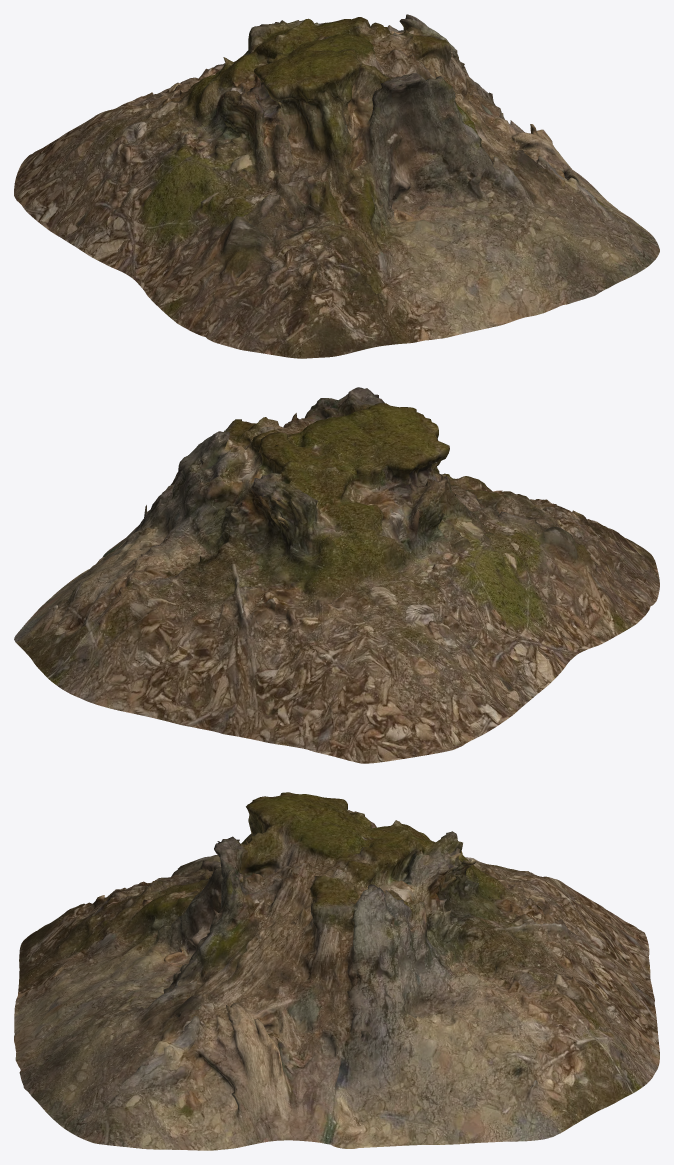
Rendered from tree_stump_01.glb.
3 views of the same model, one above another, from view 1: azimuth 30°, elevation 25°; view 2: azimuth 150°, elevation 25°; view 3: azimuth 270°, elevation 25° (orthographic). The views are drawn at different scales.
Parts seen in each view (by area): view 1: tree_stump_01; view 2: tree_stump_01; view 3: tree_stump_01.
Part boxes in pixels (<box>): tree_stump_01: <box>14,14,659,358</box>; tree_stump_01: <box>14,387,659,763</box>; tree_stump_01: <box>14,792,659,1150</box>.
Size of the model in its own units: 1.43 by 0.5728 by 1.59.
Materials: 1 (1 with a texture image).
